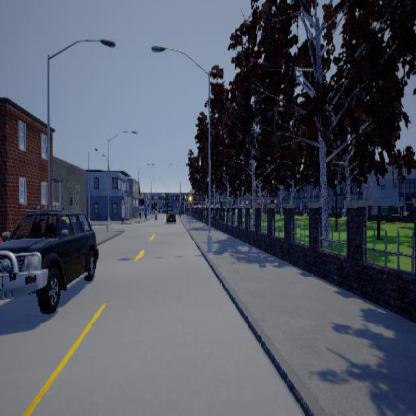traffic_light_orange: (189, 189, 191, 206)
vehicle: (0, 205, 98, 313), (164, 208, 176, 223)
